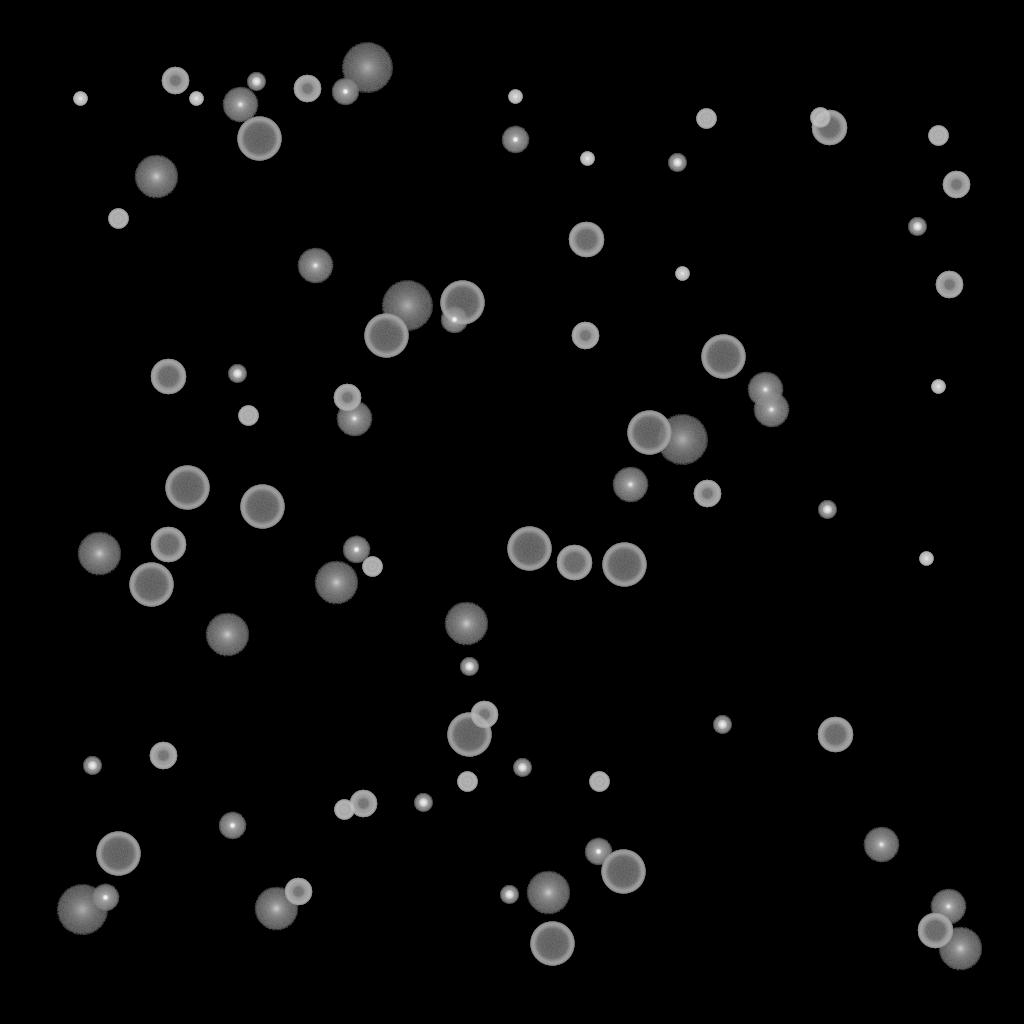depth:-10: (440, 306, 468, 334), (91, 884, 119, 912), (342, 536, 370, 564), (331, 78, 359, 106), (501, 126, 529, 154), (584, 838, 612, 866), (218, 812, 246, 840)
depth:-20: (668, 154, 686, 172), (500, 886, 518, 904), (247, 73, 265, 91), (713, 716, 731, 734), (818, 501, 836, 519), (908, 218, 926, 236), (83, 757, 101, 775), (228, 365, 246, 383), (460, 658, 478, 676), (414, 794, 432, 812), (513, 759, 531, 777)
depth:-30: (508, 90, 522, 104), (73, 92, 87, 106), (189, 92, 203, 106), (580, 152, 594, 166), (931, 380, 945, 394), (675, 267, 689, 281), (919, 552, 933, 566)
depth:-40: (810, 108, 830, 128), (589, 772, 609, 792), (696, 109, 716, 129), (362, 557, 382, 577), (238, 406, 258, 426), (457, 772, 477, 792), (928, 126, 948, 146), (334, 800, 354, 820), (108, 209, 128, 229)
depth:-50: (571, 322, 599, 350), (161, 67, 189, 95), (333, 384, 361, 412), (693, 480, 721, 508), (942, 171, 970, 199), (284, 878, 312, 906), (935, 271, 963, 299), (470, 701, 498, 729), (349, 790, 377, 818), (149, 742, 177, 770), (293, 75, 321, 103)
depth:-60: (150, 359, 186, 395), (568, 222, 604, 258), (556, 545, 592, 581), (150, 527, 186, 563), (817, 717, 853, 753), (917, 913, 953, 949), (811, 110, 847, 146)
depth:-70: (165, 466, 209, 510), (602, 543, 646, 587), (601, 850, 645, 894), (447, 713, 491, 757), (627, 411, 671, 455), (129, 563, 173, 607), (96, 832, 140, 876), (530, 922, 574, 966), (701, 335, 745, 379), (364, 314, 408, 358), (440, 281, 484, 325), (237, 117, 281, 161), (507, 527, 551, 571), (240, 485, 284, 529)
depth:0: (747, 372, 783, 408), (612, 467, 648, 503), (753, 392, 789, 428), (297, 248, 333, 284), (336, 401, 372, 437), (222, 87, 258, 123), (930, 889, 966, 925), (863, 827, 899, 863)
depth:10: (134, 155, 178, 199), (205, 613, 249, 657), (77, 532, 121, 576), (314, 561, 358, 605), (526, 871, 570, 915), (254, 887, 298, 931), (444, 602, 488, 646), (938, 927, 982, 971)
depth:20: (341, 43, 393, 93), (56, 885, 108, 935), (381, 281, 433, 331), (656, 415, 708, 465)
